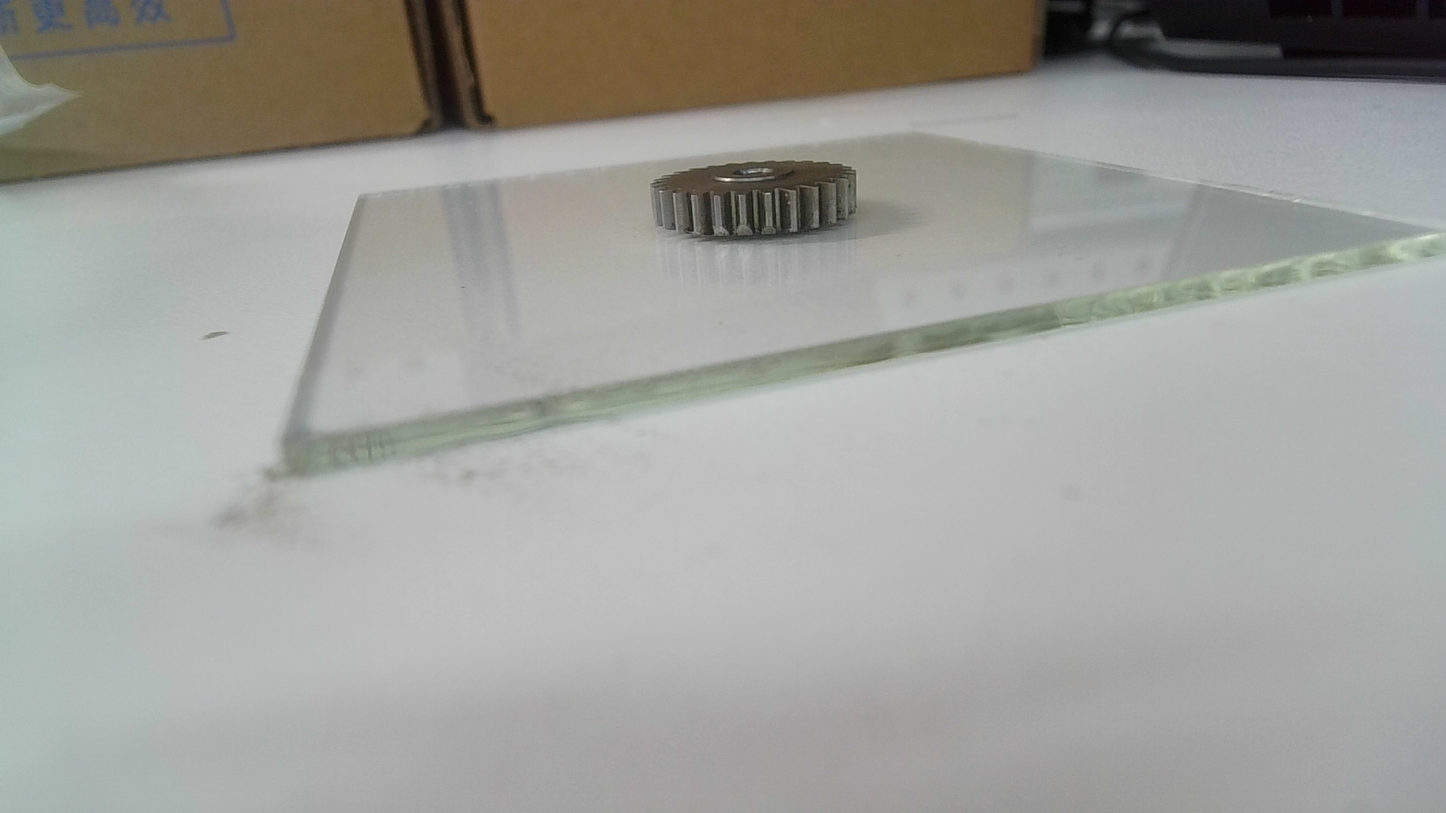gear: (651, 156, 861, 238)
